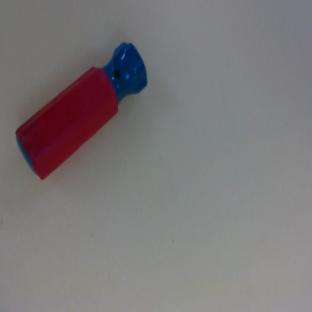part_2_good: (6, 35, 160, 181)
